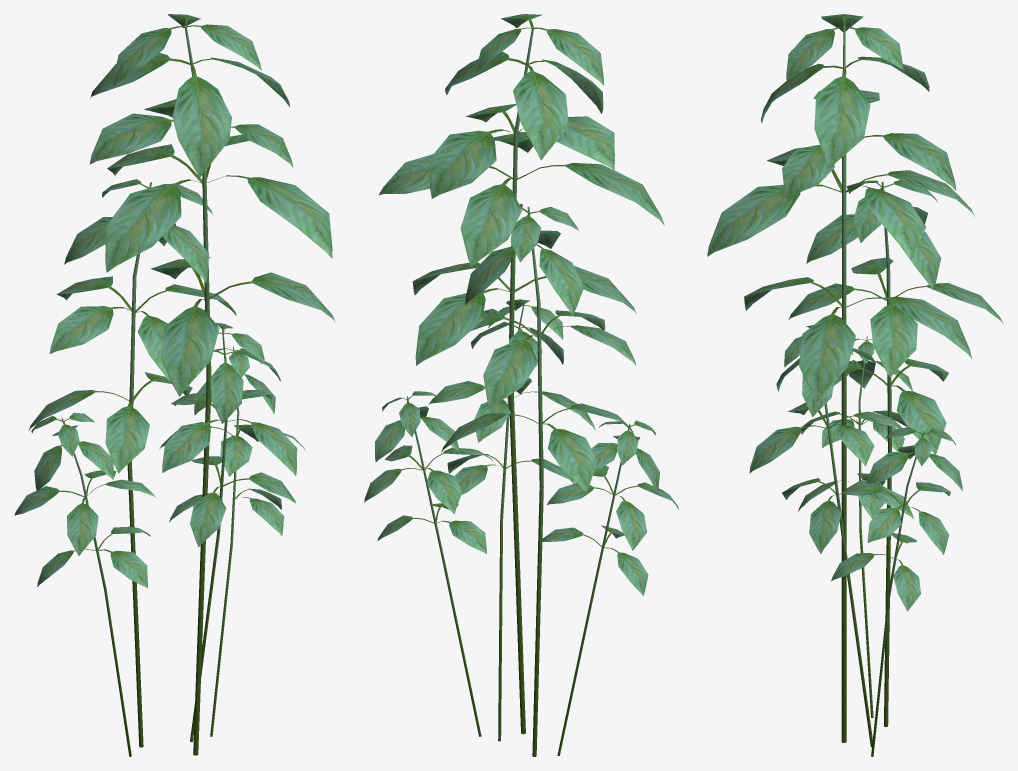
File: Basil2.fbx
The picture shows the model from 3 angles, left to right: view 1: azimuth 30°, elevation 25°; view 2: azimuth 150°, elevation 25°; view 3: azimuth 270°, elevation 25°; orthographic projection. The views are drawn at different scales.
Parts seen in each view (by area): view 1: Basil_2; view 2: Basil_2; view 3: Basil_2.
Boxes of the visible parts, x1,y1,x2,y2 form: Basil_2: (14, 14, 335, 756); Basil_2: (364, 14, 678, 756); Basil_2: (707, 14, 1003, 756).
Bounding box in the file's own units: 31.8 × 80.47 × 30.39.
